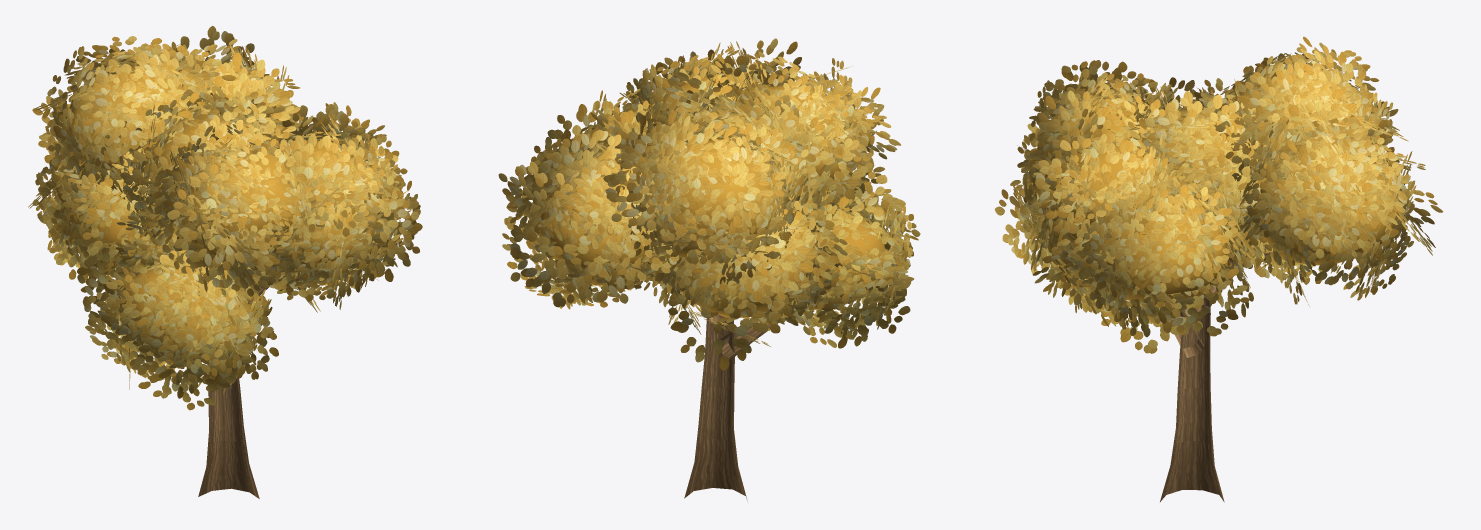
File: tree_crownwood.glb
The picture shows the model from 3 angles, left to right: view 1: azimuth 30°, elevation 25°; view 2: azimuth 150°, elevation 25°; view 3: azimuth 270°, elevation 25°; orthographic projection. The views are drawn at different scales.
Visible parts, largest first — view 1: tree_crownwood, tree_crownwood_bark_Crownwood; view 2: tree_crownwood, tree_crownwood_bark_Crownwood; view 3: tree_crownwood, tree_crownwood_bark_Crownwood.
Part boxes in pixels (<box>): tree_crownwood: <box>28,26,422,410</box>; tree_crownwood_bark_Crownwood: <box>198,283,268,498</box>; tree_crownwood: <box>498,38,920,370</box>; tree_crownwood_bark_Crownwood: <box>684,309,782,500</box>; tree_crownwood: <box>994,36,1443,353</box>; tree_crownwood_bark_Crownwood: <box>1160,250,1274,502</box>.
Size of the model in its own units: 8.94 by 10.22 by 9.9.
3 materials, 2 textured.
